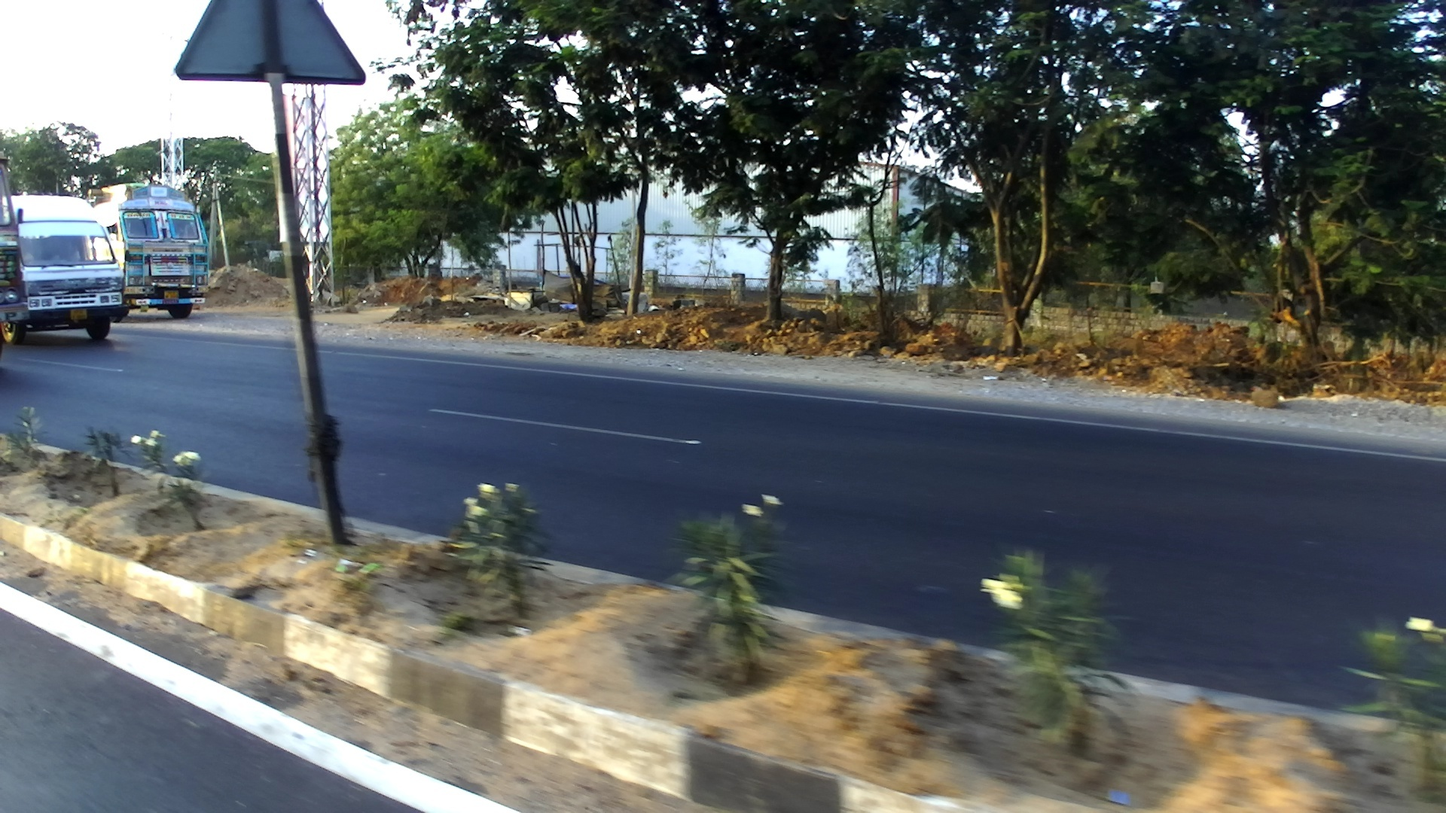bus: (8, 191, 133, 340)
truck: (87, 185, 214, 319), (1, 150, 27, 356)
